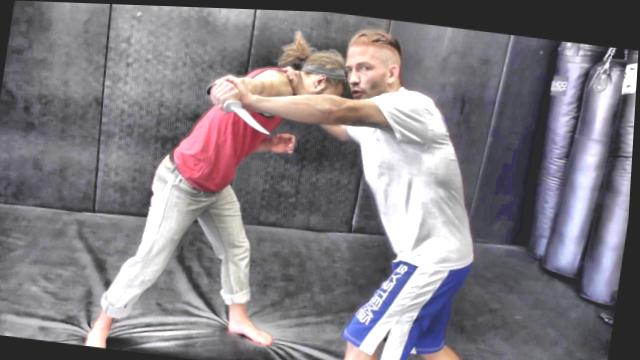knife: (198, 76, 283, 140)
